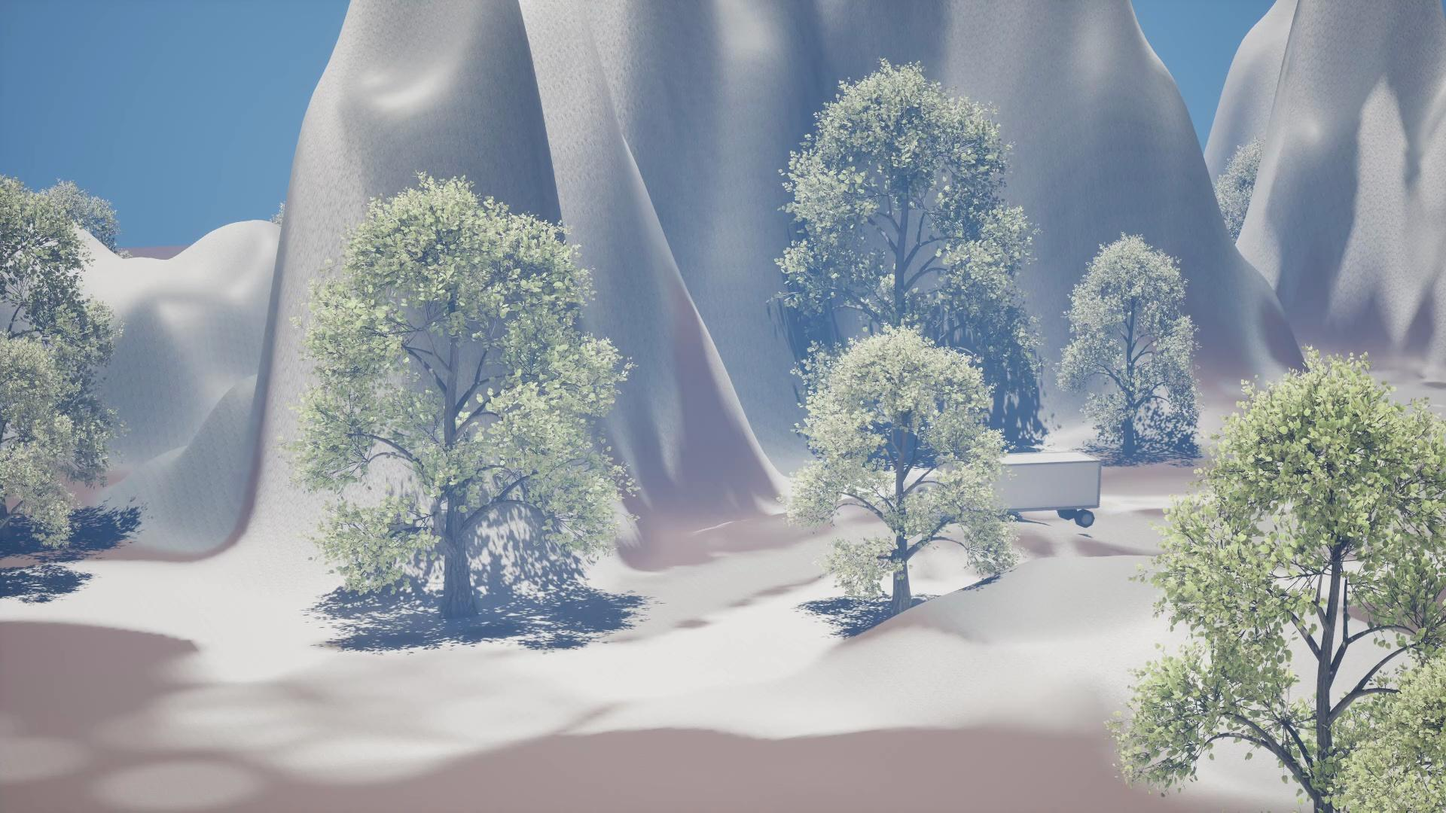truck: (997, 453, 1101, 519)
